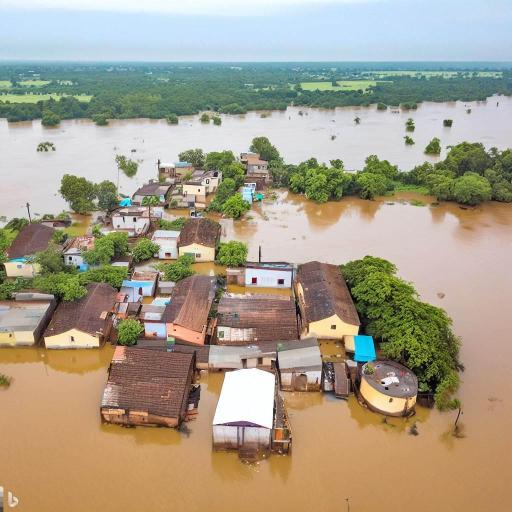flood: (0, 190, 512, 512), (0, 96, 512, 216), (64, 214, 94, 236), (192, 263, 224, 275), (136, 258, 161, 270)
house: (100, 343, 200, 433), (214, 364, 280, 458), (297, 261, 361, 338), (47, 281, 116, 350), (218, 295, 300, 343), (165, 274, 219, 344), (0, 289, 58, 351), (280, 338, 326, 390), (3, 221, 55, 261), (237, 262, 297, 294), (179, 216, 221, 260), (122, 267, 160, 305), (107, 206, 152, 234), (182, 171, 224, 197), (150, 227, 180, 261), (0, 259, 40, 282), (132, 182, 172, 204), (242, 157, 272, 185), (65, 236, 85, 266)
